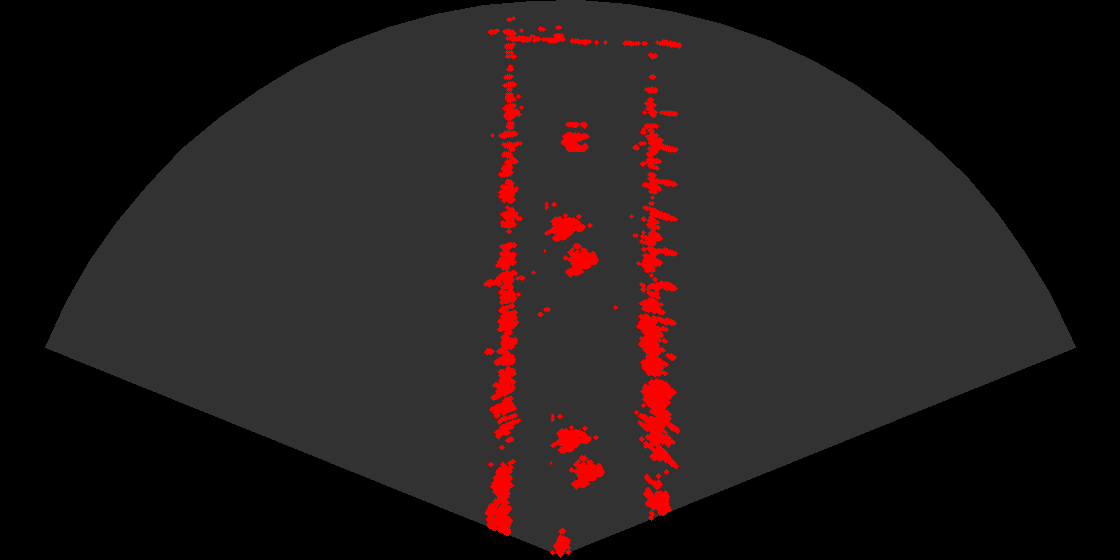ball: (541, 114, 601, 155)
cage: (544, 202, 607, 286), (550, 414, 613, 498)
